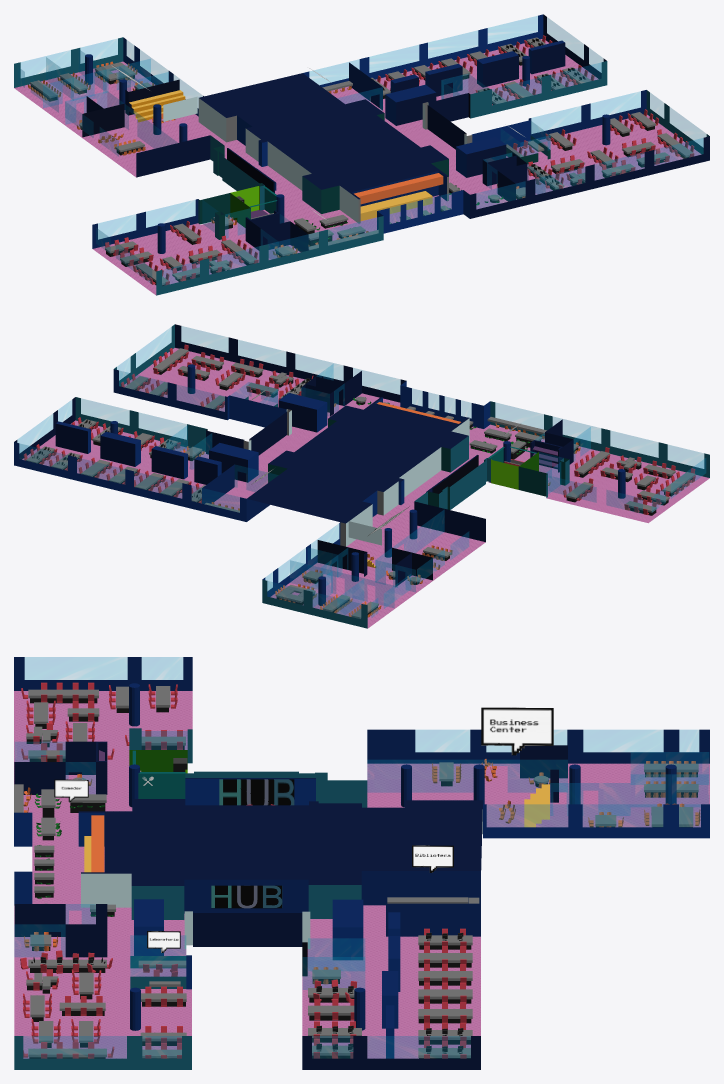
File: manoteras.obj
The picture shows the model from 3 angles, top to bottom: view 1: azimuth 30°, elevation 25°; view 2: azimuth 150°, elevation 25°; view 3: azimuth 270°, elevation 25°; orthographic projection. The views are drawn at different scales.
Parts seen in each view (by area): view 1: suelo_Plane.001, pilarcentraltecho_Plane.109, interactparedes15_Plane.026, interactparedes11_Plane.022, interactparedes26_Plane.037, sillas_Cube.198, interactparedes24_Plane.035, interactparedes17_Plane.028, interactparedes06_Plane.017, cristaleras_Plane, interactparedes09_Plane.020, interactAlacena_Cube.008 (+39 smaller); view 2: suelo_Plane.001, pilarcentraltecho_Plane.109, interactparedes26_Plane.037, interactparedes15_Plane.026, interactparedes11_Plane.022, sillas_Cube.198, interactparedes24_Plane.035, interactparedes17_Plane.028, interactparedes06_Plane.017, cristaleras_Plane, patas_Cube.044, interactparedes13_Plane.024 (+30 smaller); view 3: suelo_Plane.001, pilarcentraltecho_Plane.109, interactparedes05_Plane.016, sillas_Cube.198, interactparedes07_Plane.018, interactparedes25_Plane.036, interactparedes16_Plane.027, interactparedes10_Plane.021, patas_Cube.044, interactparedes20_Plane.031, interactpilarcentral12_Plane.114, cristaleras_Plane (+42 smaller).
Boxes of the visible parts, box(x1,y1,x2,y2) form: suelo_Plane.001: box(14, 39, 701, 295); pilarcentraltecho_Plane.109: box(199, 73, 448, 199); interactparedes15_Plane.026: box(470, 136, 709, 218); interactparedes11_Plane.022: box(156, 216, 383, 295); interactparedes26_Plane.037: box(303, 14, 543, 87); sillas_Cube.198: box(105, 35, 694, 285); interactparedes24_Plane.035: box(470, 61, 607, 118); interactparedes17_Plane.028: box(529, 90, 646, 139); interactparedes06_Plane.017: box(14, 37, 123, 87); cristaleras_Plane: box(44, 66, 549, 240); interactparedes09_Plane.020: box(92, 199, 198, 248); interactAlacena_Cube.008: box(354, 173, 443, 220); suelo_Plane.001: box(22, 348, 709, 628); pilarcentraltecho_Plane.109: box(247, 397, 469, 523); interactparedes26_Plane.037: box(14, 442, 246, 521); interactparedes15_Plane.026: box(175, 324, 406, 402); interactparedes11_Plane.022: box(490, 401, 709, 477); sillas_Cube.198: box(23, 344, 695, 514); interactparedes24_Plane.035: box(75, 397, 207, 451); interactparedes17_Plane.028: box(113, 369, 227, 420); interactparedes06_Plane.017: box(262, 579, 367, 628); cristaleras_Plane: box(168, 365, 588, 586); patas_Cube.044: box(37, 354, 692, 619); interactparedes13_Plane.024: box(400, 385, 483, 428); suelo_Plane.001: box(14, 691, 709, 1058); pilarcentraltecho_Plane.109: box(78, 799, 482, 885); interactparedes05_Plane.016: box(367, 729, 709, 763); sillas_Cube.198: box(20, 682, 466, 1058); interactparedes07_Plane.018: box(483, 804, 709, 838); interactparedes25_Plane.036: box(302, 1036, 480, 1069); interactparedes16_Plane.027: box(14, 1036, 191, 1069); interactparedes10_Plane.021: box(14, 657, 192, 690); patas_Cube.044: box(26, 698, 697, 1058); interactparedes20_Plane.031: box(193, 913, 302, 946); interactpilarcentral12_Plane.114: box(361, 871, 480, 905); cristaleras_Plane: box(17, 742, 628, 931).
Size of the model in its own units: 6.51 by 0.6594 by 5.05.
